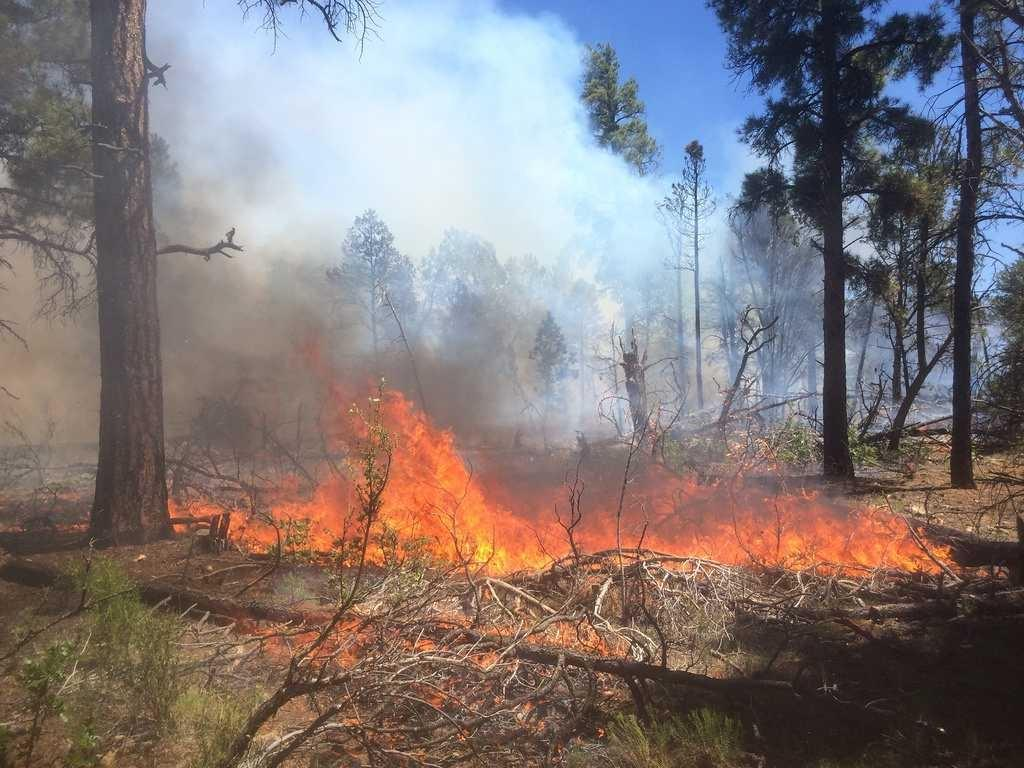fire: (660, 522, 920, 564), (396, 444, 468, 542)
smoke: (278, 42, 568, 226)
